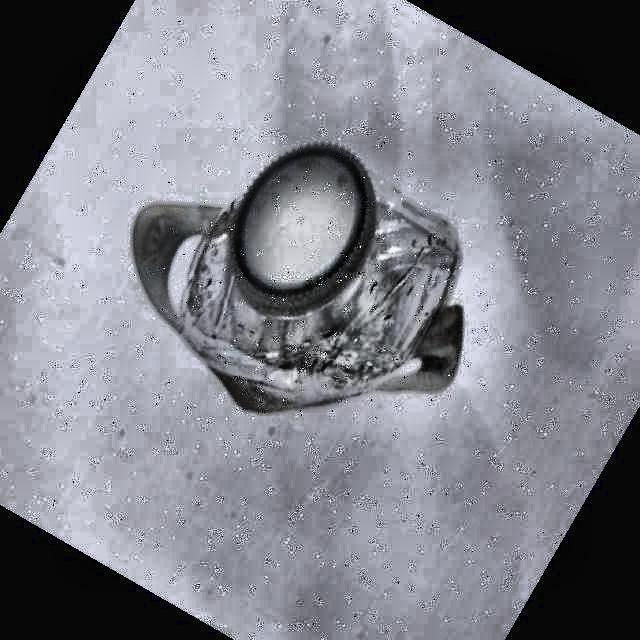plastic: (134, 145, 459, 411)
